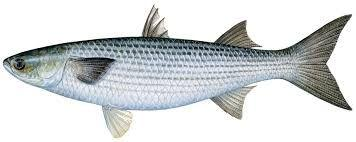Mullet: (5, 4, 356, 139)
